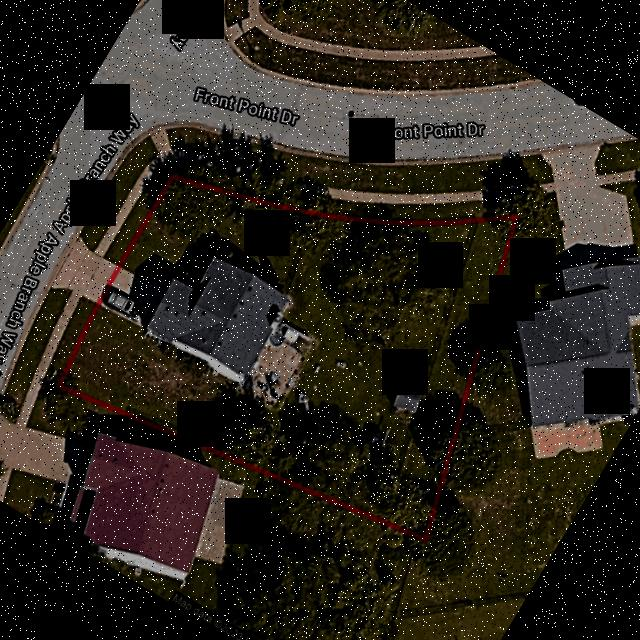Driveway: (100, 267, 168, 326)
Extra Driveway: (51, 235, 115, 301)
Extra Lawn: (80, 136, 157, 249), (283, 153, 488, 193), (15, 288, 70, 372), (51, 297, 93, 369), (104, 193, 146, 262), (167, 126, 216, 147)
Extra Sidewalk: (94, 162, 153, 256), (34, 289, 80, 380), (327, 187, 483, 204), (150, 126, 171, 153)
House: (141, 253, 289, 384)
Other: (242, 319, 315, 410), (390, 381, 421, 413)
